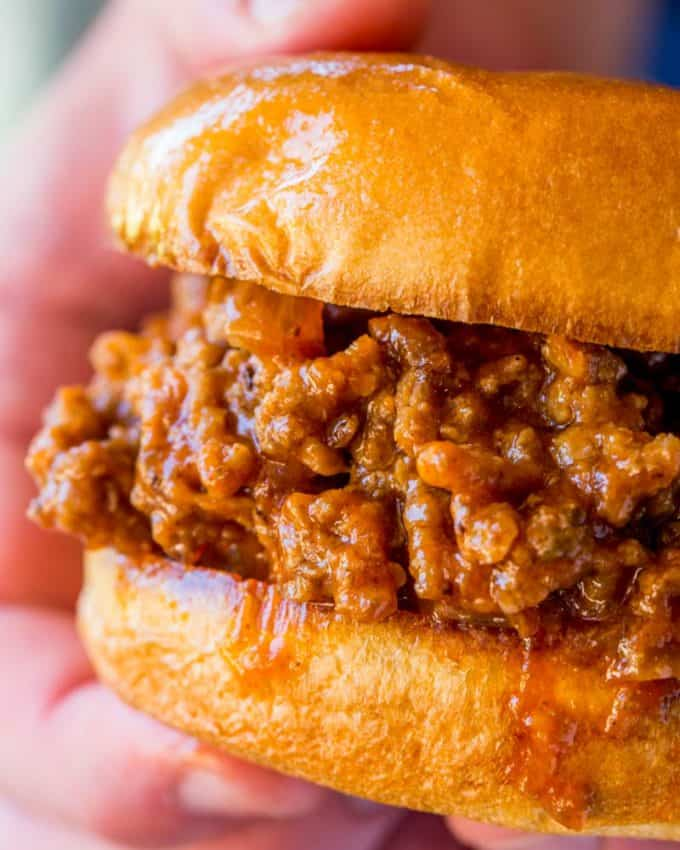hamburger_buns: (94, 33, 680, 333)
